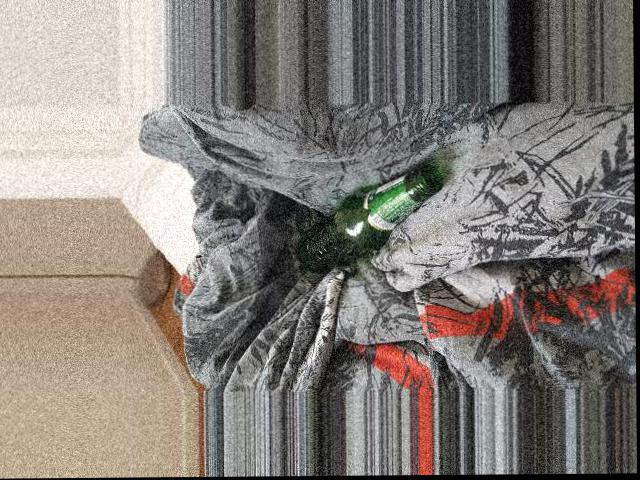beer: (297, 166, 445, 272)
